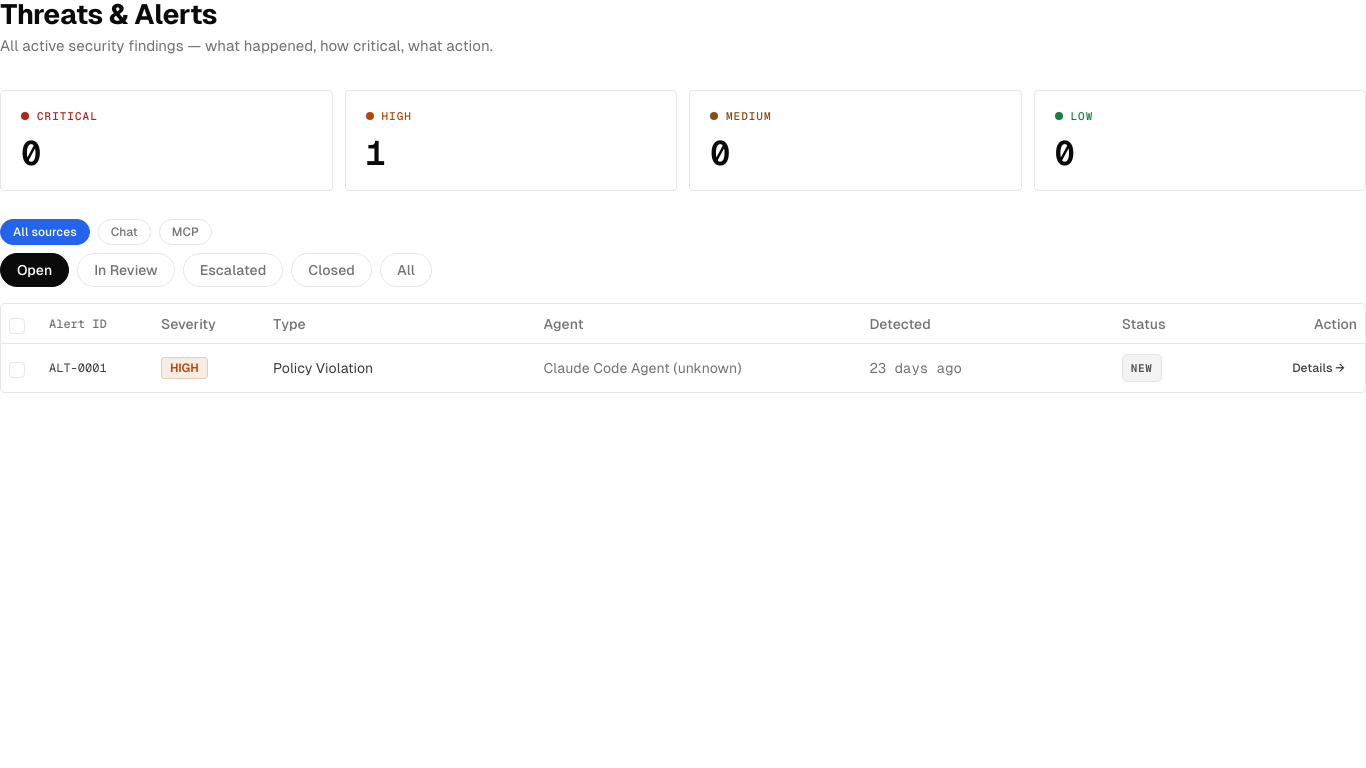
Test: ThreatsAlertsPage — triage sheet › lists each pattern when an alert carries several
This screenshot has width=1366, height=768.
What coordinates should you click on to do the following:
click the button "Details →"
I would click on:
 (1319, 368)
Its box is [1280,352,1357,384].
(page scrolled)
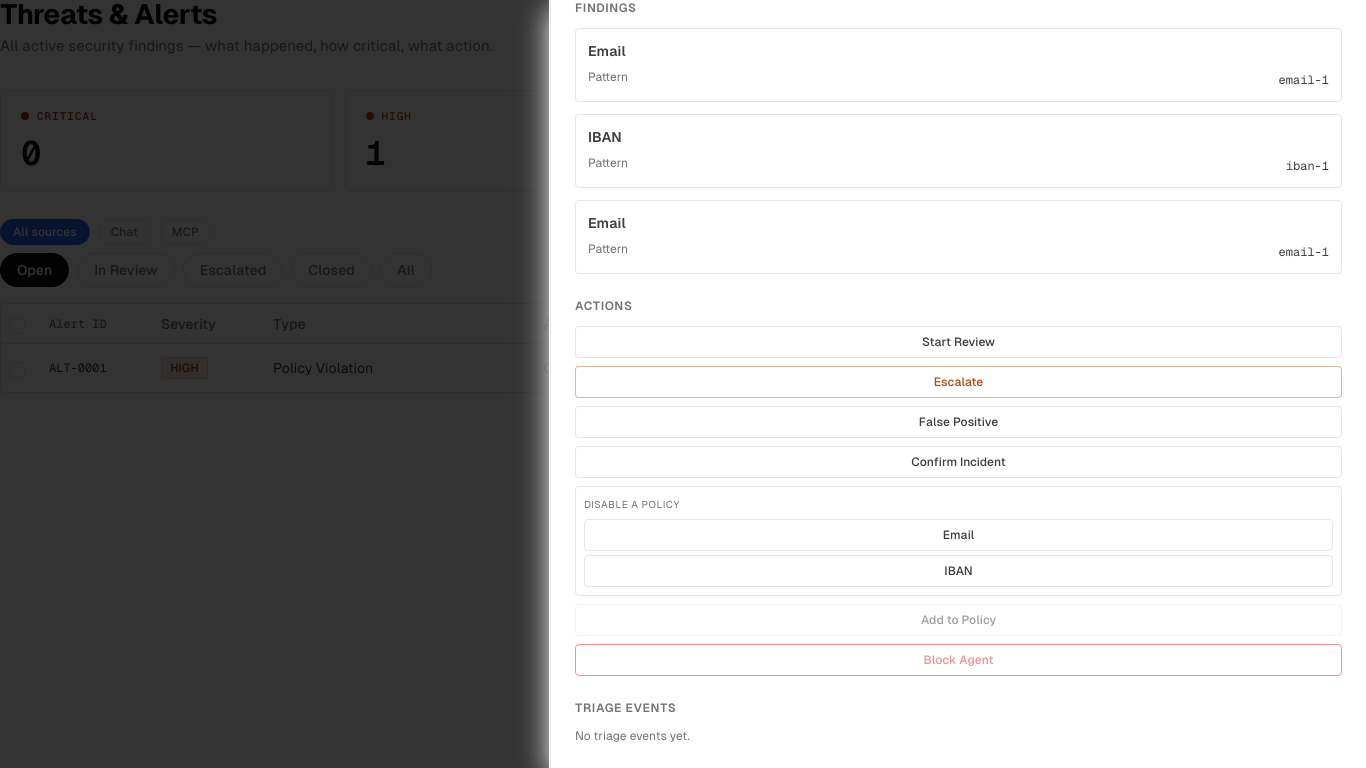
Now the text "Disable a policy" is shown, box [584,499,680,510]
Now the button "Email" is shown, box [584,519,1333,551]
Now the button "IBAN" is shown, box [584,555,1333,587]
